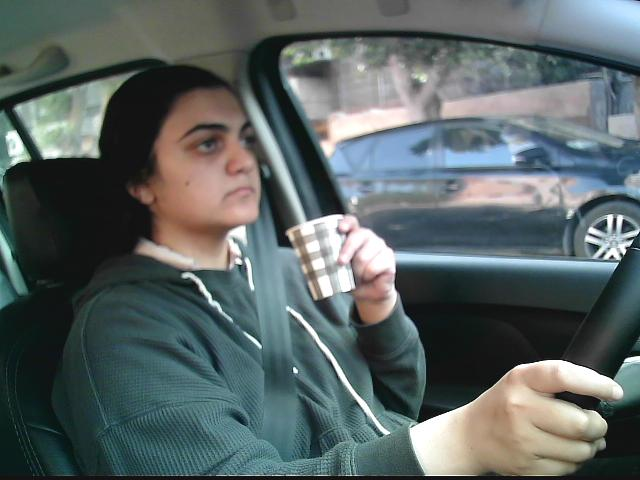Drinking: (279, 209, 365, 301)
